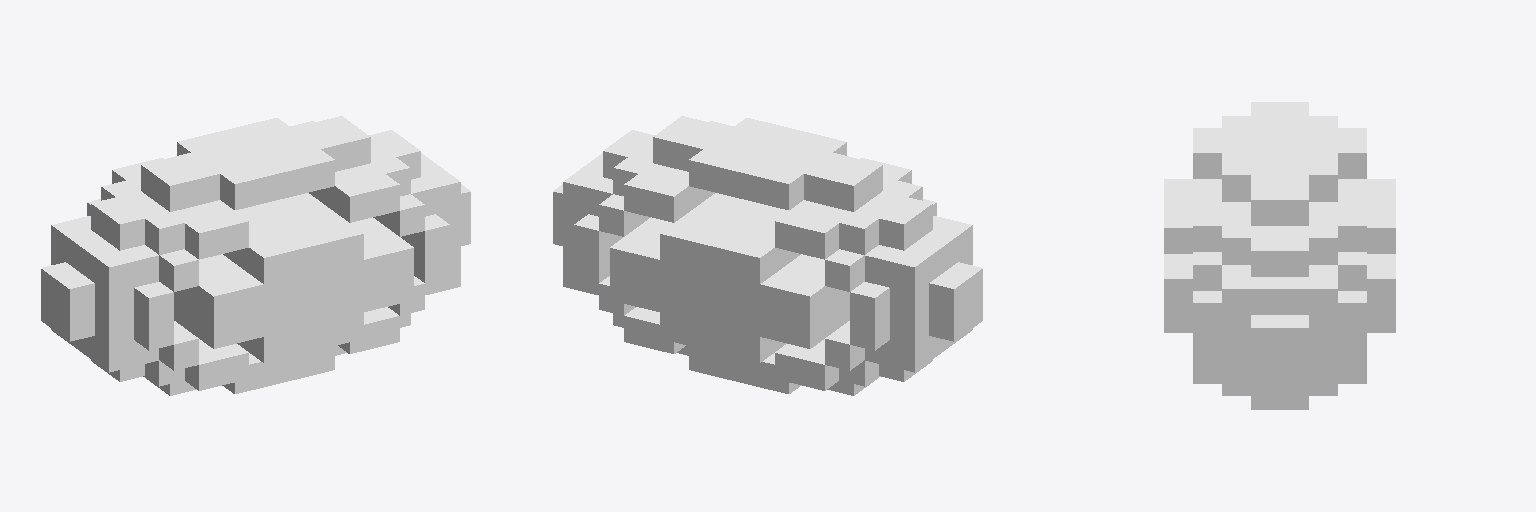
Rendered from Option.obj.
The picture shows the model from 3 angles: view 1: azimuth 30°, elevation 25°; view 2: azimuth 150°, elevation 25°; view 3: azimuth 270°, elevation 25°; orthographic projection.
Parts seen in each view (by area): view 1: object 1; view 2: object 1; view 3: object 1.
Part boxes in pixels (x1,y1,x2,y2): object 1: (41, 116, 470, 395); object 1: (553, 116, 982, 395); object 1: (1164, 102, 1395, 409).
Bounding box in the file's own units: 1.6 × 0.8 × 0.8.